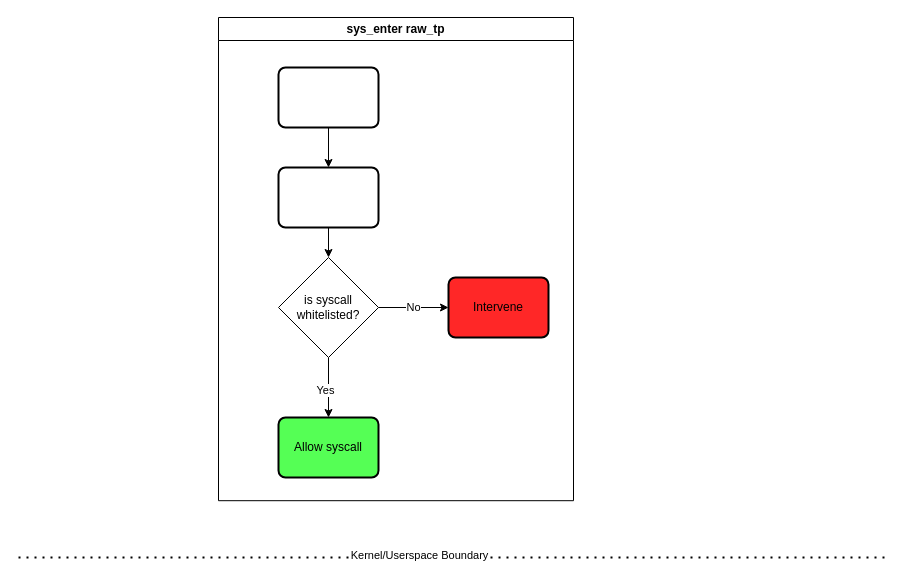
Image size: 907x579. Some labels were removed from this diagram. The shapes that lost their labels are listed below. From the top down, each one's box as (x1, y1, x2, y2) in pixels, then its label:
(277, 66, 379, 128): Find syscall site
(277, 166, 379, 228): Associate syscall with .so file
